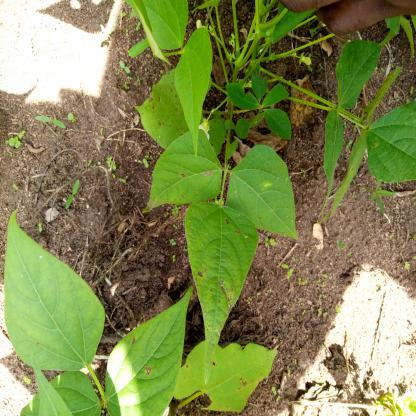Beans_Angular_LeafSpot: (106, 288, 192, 416), (181, 210, 251, 350), (140, 130, 232, 204), (180, 340, 280, 402), (135, 74, 182, 145)
